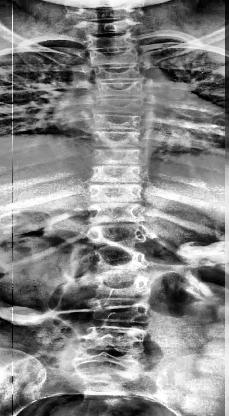Vertebrae: (76, 321, 148, 355), (69, 350, 143, 380), (91, 296, 154, 328), (90, 244, 150, 272), (94, 271, 154, 299), (88, 222, 150, 248), (86, 204, 148, 226), (89, 145, 144, 167), (78, 17, 138, 37), (91, 164, 143, 186), (88, 184, 144, 204), (91, 128, 143, 148), (88, 50, 144, 68), (92, 112, 142, 132), (93, 96, 145, 115), (84, 34, 138, 52), (92, 66, 144, 84), (95, 81, 145, 99)
